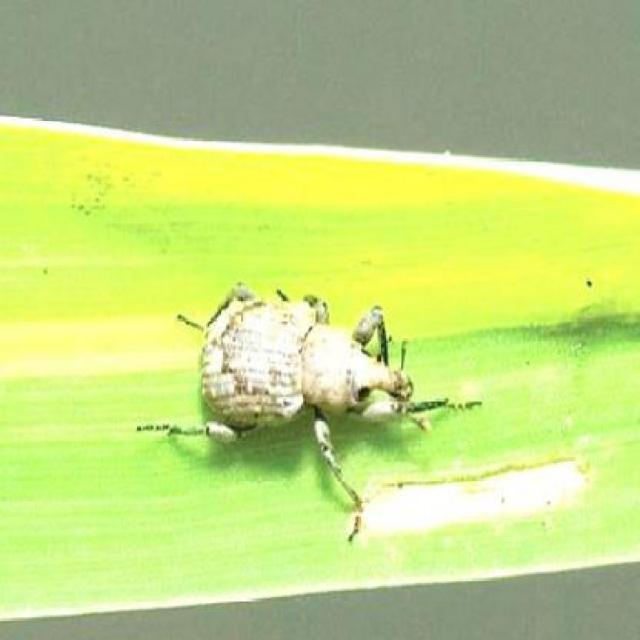rice-bug: (155, 278, 423, 482)
